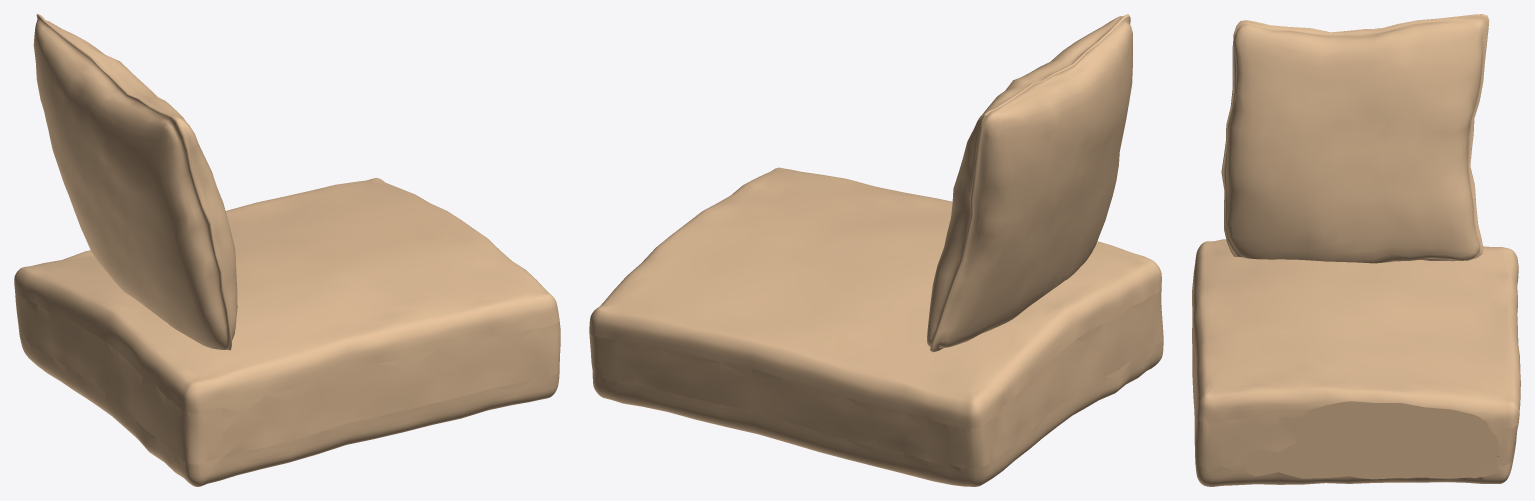
File: Couch_Main_Pillow.FBX
3 renders of one model, left to right at view 1: azimuth 30°, elevation 25°; view 2: azimuth 150°, elevation 25°; view 3: azimuth 270°, elevation 25°, orthographic. The views are drawn at different scales.
Parts seen in each view (by area): view 1: ChamferB10, pillow12; view 2: ChamferB10, pillow12; view 3: ChamferB10, pillow12.
Boxes of the visible parts, left/top/right/bottom form: ChamferB10: left=14, top=178, right=560, bottom=486; pillow12: left=33, top=14, right=237, bottom=350; ChamferB10: left=589, top=167, right=1163, bottom=486; pillow12: left=927, top=14, right=1132, bottom=352; ChamferB10: left=1192, top=239, right=1520, bottom=486; pillow12: left=1221, top=14, right=1489, bottom=263.
Bounding box in the file's own units: 28.15 × 25.13 × 23.37.
